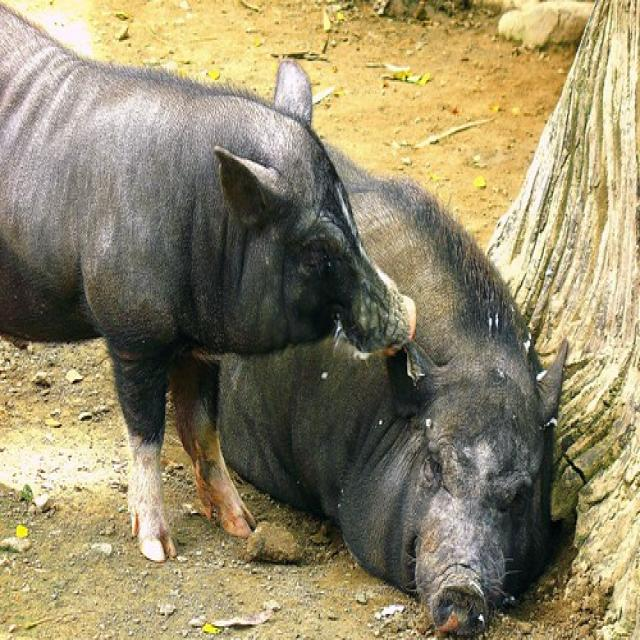boar: (125, 62, 586, 640), (0, 0, 420, 581)
